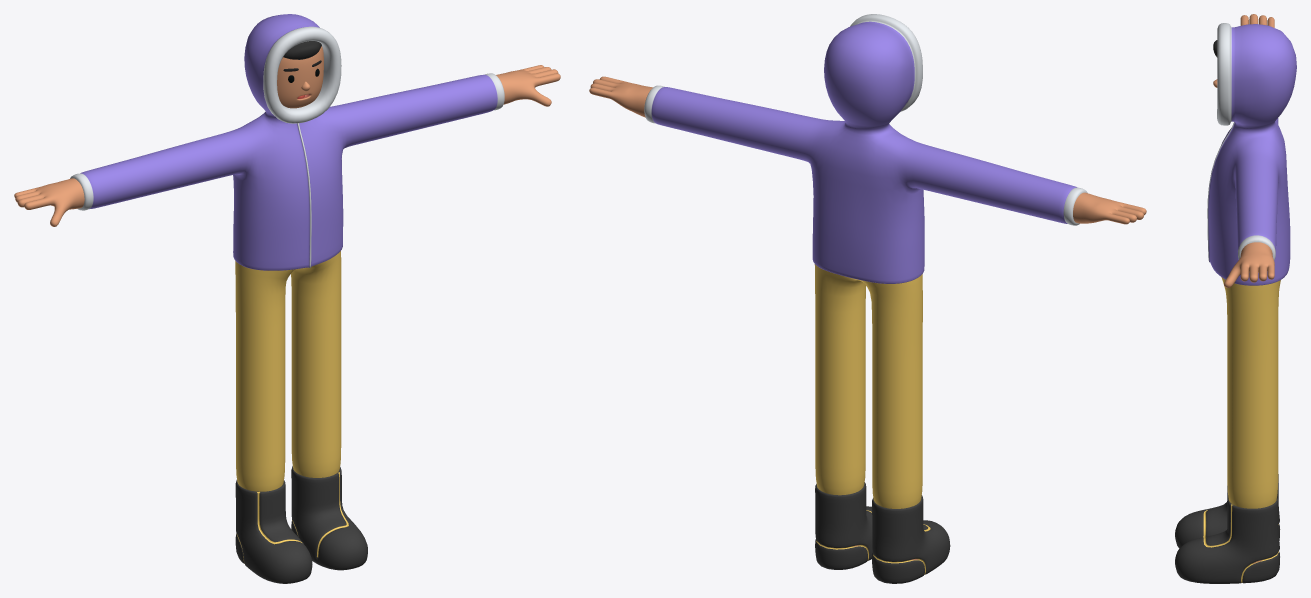
Rendered from BOY 3.fbx.
3 renders of one model, left to right at view 1: azimuth 30°, elevation 25°; view 2: azimuth 150°, elevation 25°; view 3: azimuth 270°, elevation 25°, orthographic.
Visible parts, largest first — view 1: BOY 3_JACKET, BOY 3_PANTS, BOY_BODY.003, BOY_3_SHOES.R, BOY_3_SHOES.L; view 2: BOY 3_JACKET, BOY 3_PANTS, BOY_3_SHOES.R, BOY_3_SHOES.L, BOY_BODY.003; view 3: BOY 3_JACKET, BOY 3_PANTS, BOY_3_SHOES.L, BOY_BODY.003, BOY_3_SHOES.R.
Part boxes in pixels (box(x1,y1,x2,y2)): BOY 3_JACKET: box(70, 14, 504, 270); BOY 3_PANTS: box(235, 251, 341, 491); BOY_BODY.003: box(14, 46, 560, 226); BOY_3_SHOES.R: box(235, 480, 312, 583); BOY_3_SHOES.L: box(291, 466, 367, 570); BOY 3_JACKET: box(644, 14, 1087, 283); BOY 3_PANTS: box(814, 264, 922, 508); BOY_3_SHOES.R: box(872, 495, 950, 583); BOY_3_SHOES.L: box(815, 482, 872, 569); BOY_BODY.003: box(589, 76, 1146, 560); BOY 3_JACKET: box(1207, 23, 1296, 285); BOY 3_PANTS: box(1221, 277, 1280, 508); BOY_3_SHOES.L: box(1175, 498, 1279, 583); BOY_BODY.003: box(1213, 14, 1274, 563); BOY_3_SHOES.R: box(1175, 474, 1280, 548).
Size of the model in its own units: 205 by 192 by 39.96.
Materials: 10 (6 with a texture image).
